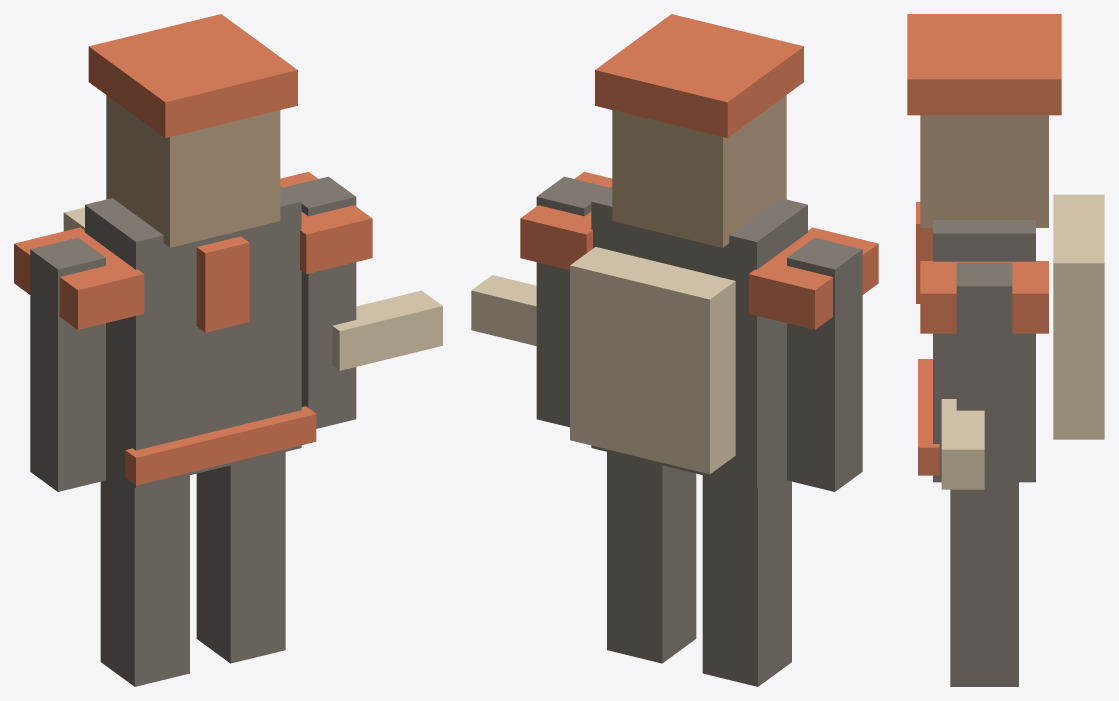
The model's file is 02_mirek_whispercoil_tamer_near_kill.glb.
The picture shows the model from 3 angles, left to right: view 1: azimuth 30°, elevation 25°; view 2: azimuth 150°, elevation 25°; view 3: azimuth 270°, elevation 25°; orthographic projection.
Visible parts, largest first — view 1: Mirek Whispercoil, Tamer near Kill; view 2: Mirek Whispercoil, Tamer near Kill; view 3: Mirek Whispercoil, Tamer near Kill.
Part boxes in pixels (x1,y1,x2,y2): Mirek Whispercoil, Tamer near Kill: (14, 14, 442, 686); Mirek Whispercoil, Tamer near Kill: (471, 14, 878, 686); Mirek Whispercoil, Tamer near Kill: (907, 14, 1104, 686).
Size of the model in its own units: 1.08 by 1.64 by 0.4852.
